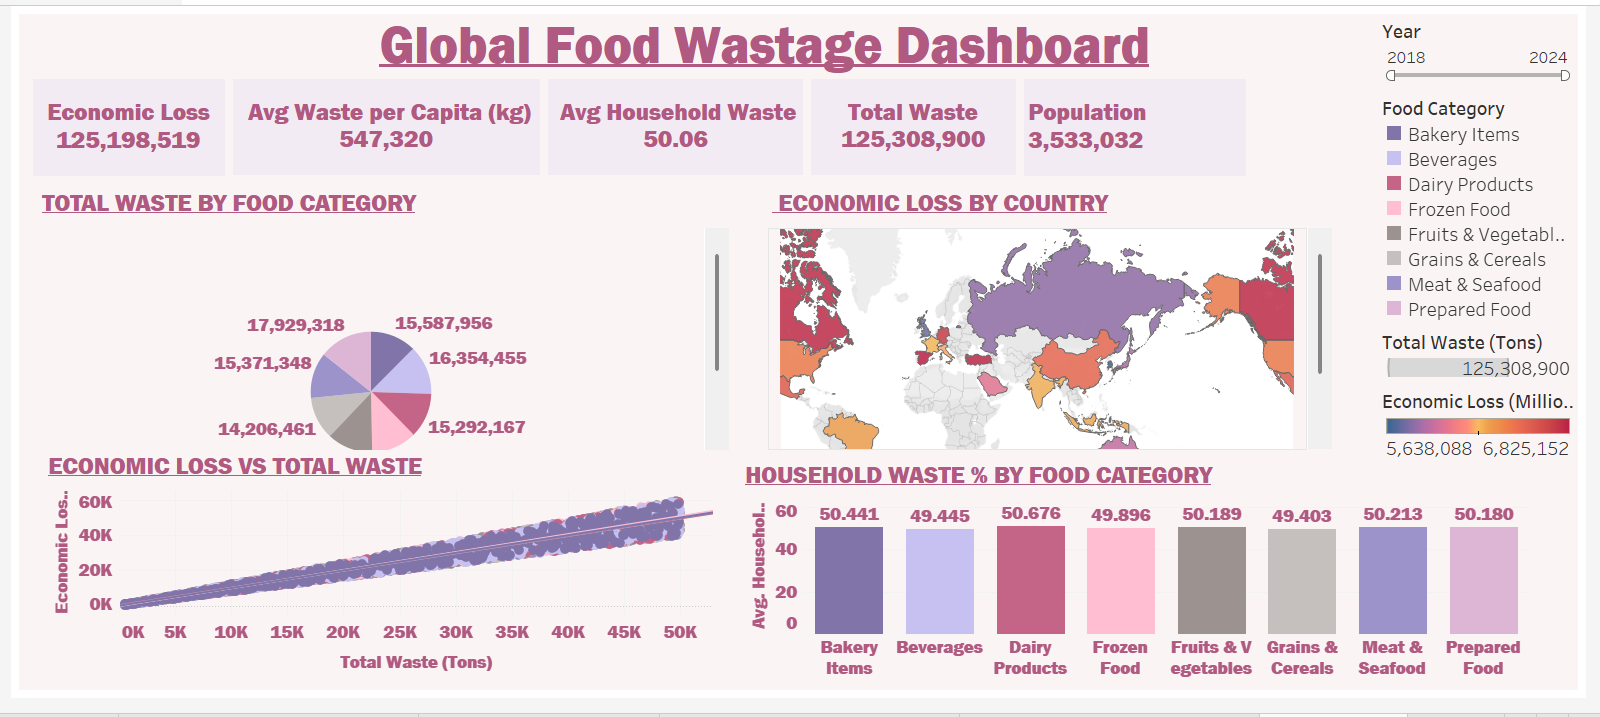

This screenshot's page, from the dashboard's own definition file:
{"tool":"tableau","page":{"name":"Dashboard 1","canvas":[1000,1000],"units":"permille","ordinal":0},"visuals":[{"type":"filter","title":"KPI","param":"[federated.0u0f0v20a8p3p9155ntvw0yaqa1w].[none:Year:qk]","box":[867.9,11.6,127,111.3]},{"type":"text","box":[74.9,14.5,807,83.8]},{"type":"worksheet","title":"kpi","mark":"Automatic","box":[11.4,99.7,127,153.2]},{"type":"worksheet","title":"KPI","mark":"Automatic","box":[138.4,99.7,200,153.2]},{"type":"worksheet","title":"kpi2","mark":"Automatic","box":[338.4,99.7,167,153.2]},{"type":"worksheet","title":"kpi3","mark":"Automatic","box":[505.4,99.7,135.2,153.2]},{"type":"worksheet","title":"kpi4","mark":"Automatic","box":[640.6,99.7,146,153.2]},{"type":"legend","title":"TOTALWASTE FOODCATEGRY","param":"[federated.0u0f0v20a8p3p9155ntvw0yaqa1w].[none:Food Category:nk]","box":[867.9,122.8,127,338.2]},{"type":"worksheet","title":"TOTALWASTE FOODCATEGRY","mark":"Pie","box":[14.6,252.9,463.5,394.5]},{"type":"worksheet","title":"ECO LOSS  BY COUNTRY ","mark":"Automatic","box":[478.1,252.9,370.2,394.5]},{"type":"legend","title":"TOTALWASTE FOODCATEGRY","param":"[federated.0u0f0v20a8p3p9155ntvw0yaqa1w].[sum:Total Waste (Tons):qk]","box":[867.9,461,127,85.3]},{"type":"legend","title":"ECO LOSS  BY COUNTRY ","param":"[federated.0u0f0v20a8p3p9155ntvw0yaqa1w].[sum:Economic Loss (Million $):qk]","box":[867.9,546.2,127,117]},{"type":"worksheet","title":"ECONOMIC LOSS VS TOTAL WASTE","mark":"Automatic","rows":["Economic Loss (Million $)"],"cols":["Total Waste (Tons)"],"box":[20.9,638.7,424.8,335.3]},{"type":"worksheet","title":"household waste perc by food category","mark":"Automatic","rows":["Household Waste (%)"],"cols":["Food Category"],"box":[463.5,651.7,500.3,326.6]}]}

Visuals, with their boxes on the dashboard's canvas, which has no fixed pixel size, in thousandths of its width and height (x1, y1, x2, y2). These are canvas units, not pixel positions in the 1600x717 screenshot, which may show the page scaled, cropped or inside an application window:
"KPI" filter: bbox=(868, 12, 995, 123)
text: bbox=(75, 14, 882, 98)
"kpi" worksheet: bbox=(11, 100, 138, 253)
"KPI" worksheet: bbox=(138, 100, 338, 253)
"kpi2" worksheet: bbox=(338, 100, 505, 253)
"kpi3" worksheet: bbox=(505, 100, 641, 253)
"kpi4" worksheet: bbox=(641, 100, 787, 253)
"TOTALWASTE FOODCATEGRY" legend: bbox=(868, 123, 995, 461)
"TOTALWASTE FOODCATEGRY" worksheet (Pie marks): bbox=(15, 253, 478, 647)
"ECO LOSS  BY COUNTRY " worksheet: bbox=(478, 253, 848, 647)
"TOTALWASTE FOODCATEGRY" legend: bbox=(868, 461, 995, 546)
"ECO LOSS  BY COUNTRY " legend: bbox=(868, 546, 995, 663)
"ECONOMIC LOSS VS TOTAL WASTE" worksheet: bbox=(21, 639, 446, 974)
"household waste perc by food category" worksheet: bbox=(464, 652, 964, 978)
